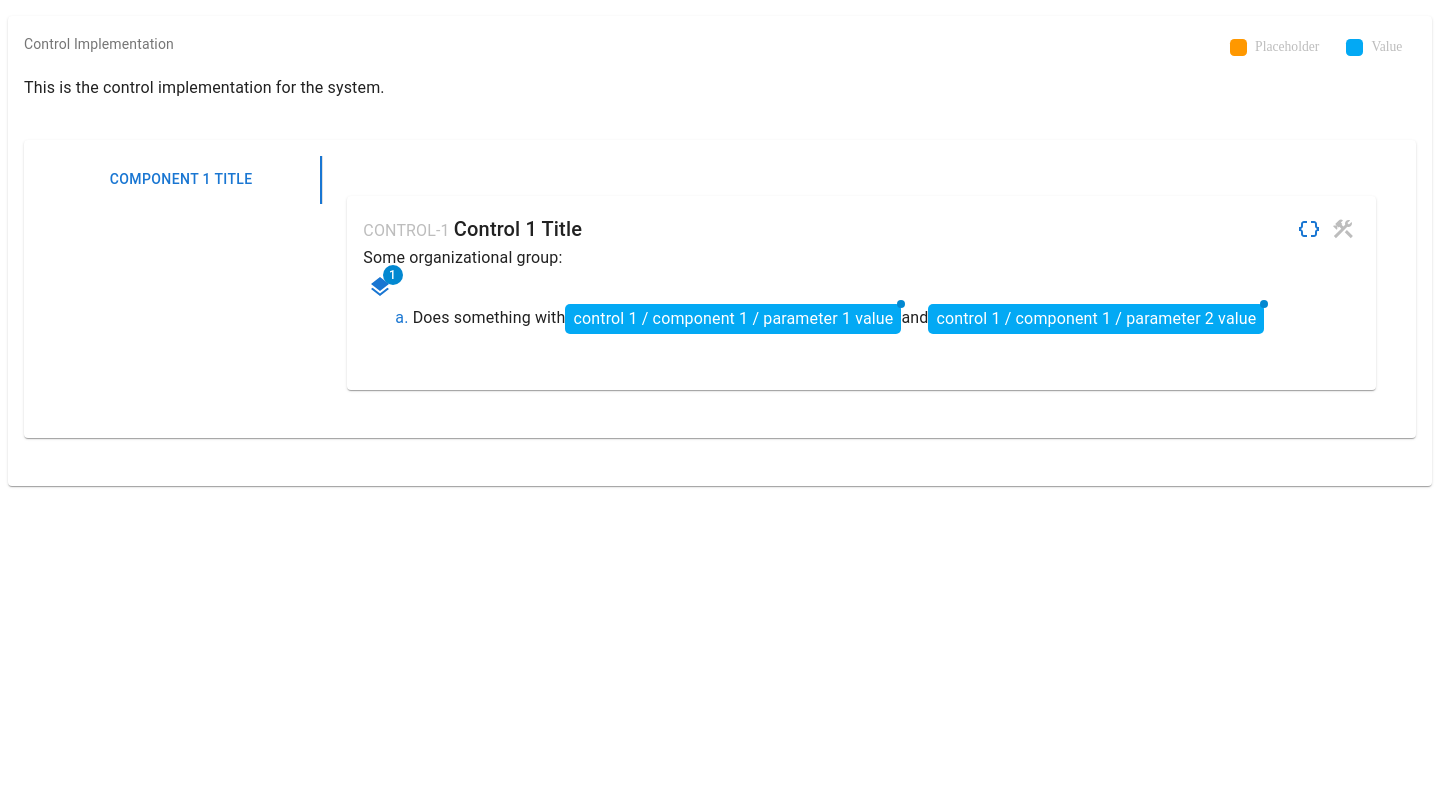
Test: OSCALControl displays statement modifications
The width and height of the screenshot is (1440, 810).
Click the button named "control-1_smt modifications": coordinates (380, 287) [363,270,397,304]
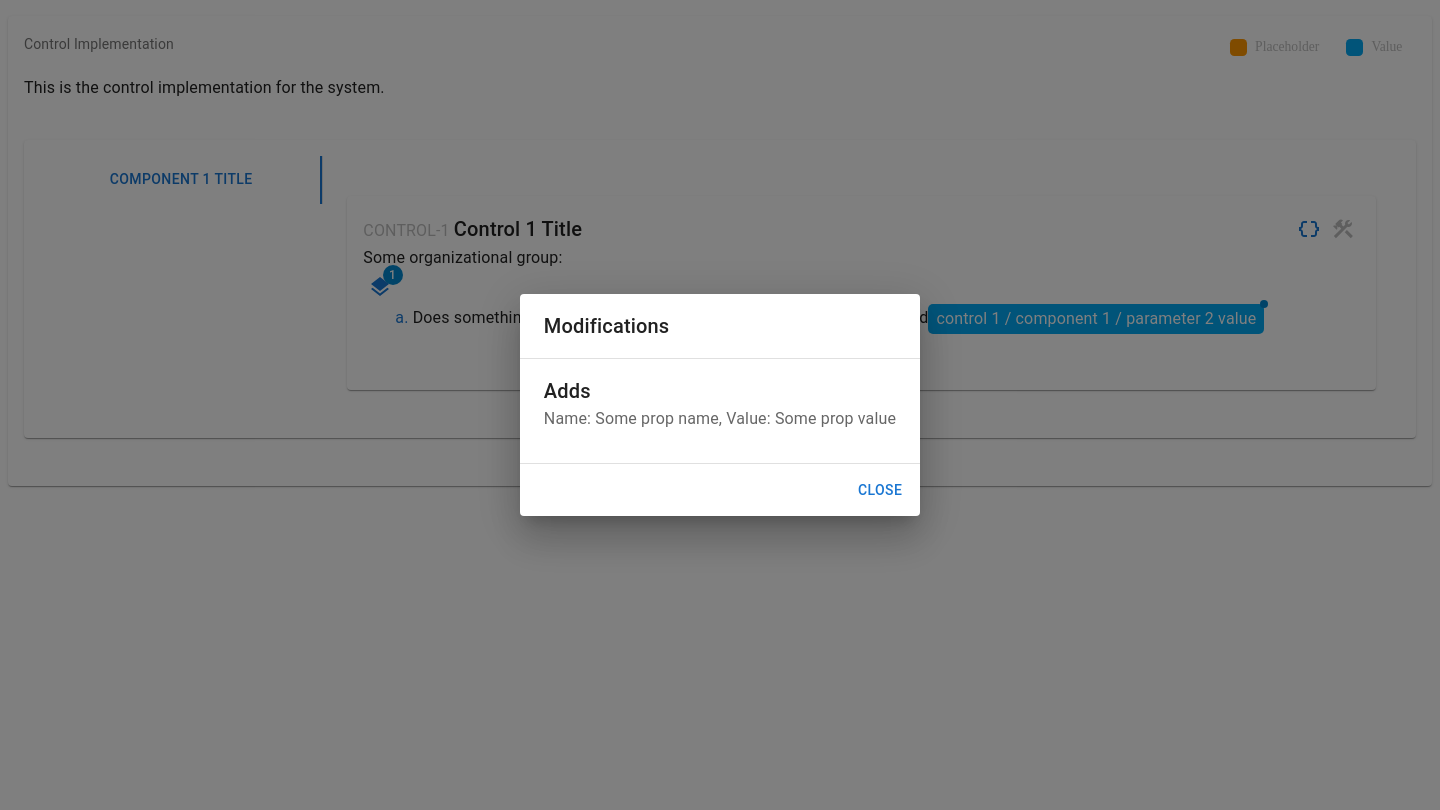
Check: the heading "Modifications" is shown, box [544,314,669,338]
Check: the heading "Adds" is shown, box [544,379,591,403]
